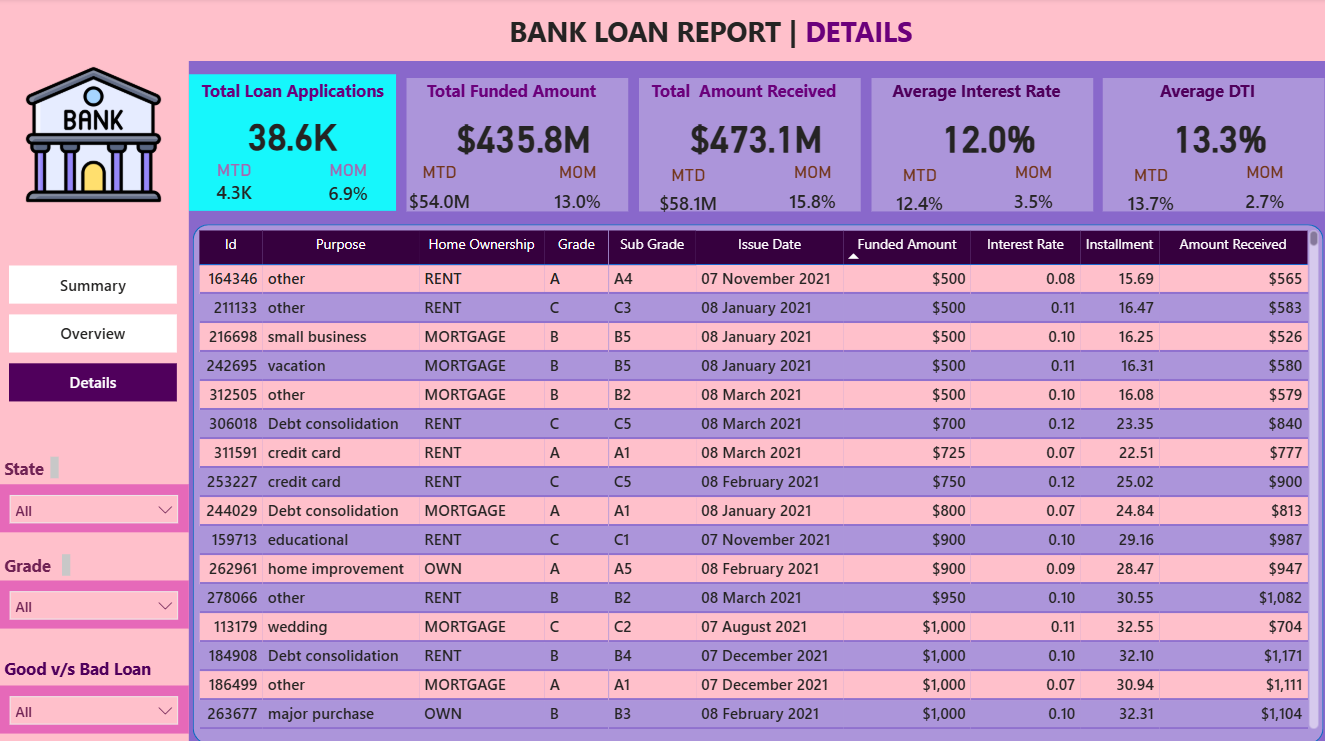

The dashboard page shown, as its layout file describes it:
{"tool":"powerbi","page":{"name":"Details","canvas":[1280,720],"ordinal":2},"visuals":[{"type":"shape","box":[0,0,1279.8,60.9],"z":0},{"type":"shape","box":[182.8,73.7,199.8,131.8],"z":0,"group":"g1"},{"type":"shape","box":[393.3,77.1,214,129],"z":0,"group":"g2"},{"type":"shape","box":[617.7,77.1,214,129],"z":0,"group":"g3"},{"type":"shape","box":[841.5,77.2,214,129],"z":0,"group":"g4"},{"type":"shape","box":[1065.8,77.2,214,129],"z":0,"group":"g5"},{"type":"card","fields":{"Values":["Loan_report.Total Loan Applications"]},"box":[182.8,109.1,199.8,46.8],"z":1000,"group":"g1"},{"type":"card","fields":{"Values":["Loan_report.Total Funded Amount"]},"box":[406.3,109.7,199.8,46.8],"z":1000,"group":"g2"},{"type":"card","fields":{"Values":["Loan_report.Total Amount Received"]},"box":[630.7,109.7,199.8,46.8],"z":1000,"group":"g3"},{"type":"card","fields":{"Values":["Loan_report.Avg Interest Rate"]},"box":[854.5,109.8,199.8,46.8],"z":1000,"group":"g4"},{"type":"card","fields":{"Values":["Loan_report.Avg DTI"]},"box":[1078.8,109.8,199.8,46.8],"z":1000,"group":"g5"},{"type":"shape","box":[187.1,218.3,1091.3,501.7],"z":1000},{"type":"shape","box":[0,54.3,183.4,666],"z":2000},{"type":"textbox","box":[393.9,73.6,199.8,35.4],"z":2000,"group":"g2"},{"type":"textbox","box":[618.3,73.6,199.8,35.4],"z":2000,"group":"g3"},{"type":"textbox","box":[182.8,73.7,199.8,35.4],"z":2000,"group":"g1"},{"type":"textbox","box":[842.1,73.7,199.8,35.4],"z":2000,"group":"g4"},{"type":"textbox","box":[1066.4,73.7,199.8,35.4],"z":2000,"group":"g5"},{"type":"textbox","box":[487.6,8.5,483.3,45.4],"z":3000},{"type":"card","title":"MTD","fields":{"Values":["Loan_report.MTD Loan Applications"]},"box":[201.2,155.9,51,48.2],"z":3000,"group":"g1"},{"type":"card","title":"MTD","fields":{"Values":["Loan_report.MTD Funded Amount"]},"box":[386.9,158.5,76,60.3],"z":3000,"group":"g2"},{"type":"card","title":"MTD","fields":{"Values":["Loan_report.MTD Avg Interest Rate"]},"box":[850,160.8,76.5,59.5],"z":3000,"group":"g4"},{"type":"card","title":"MTD","fields":{"Values":["Loan_report.MTD Avg DTI"]},"box":[1074.3,160.8,76.5,59.5],"z":3000,"group":"g5"},{"type":"card","title":"MTD","fields":{"Values":["Loan_report.MTD Amount Received"]},"box":[627.7,161,76,60.3],"z":3000,"group":"g3"},{"type":"group","id":"g1","title":"Group 1","box":[182.8,73.7,199.8,133.1],"z":4000},{"type":"card","title":"MOM","fields":{"Values":["Loan_report.MOM Loan Applications"]},"box":[306.1,156.1,61.5,50.7],"z":4000,"group":"g1"},{"type":"card","title":"MOM","fields":{"Values":["Loan_report.MOM Avg Interest Rate"]},"box":[963.4,158,69.4,60.9],"z":4000,"group":"g4"},{"type":"card","title":"MOM","fields":{"Values":["Loan_report.MOM Avg DTI"]},"box":[1187.7,158,69.4,60.9],"z":4000,"group":"g5"},{"type":"card","title":"MOM","fields":{"Values":["Loan_report.MOM Funded Amount"]},"box":[523.2,158.5,70,60.3],"z":4000,"group":"g2"},{"type":"card","title":"MOM","fields":{"Values":["Loan_report.MOM Amount Received"]},"box":[750.8,158.5,70,60.3],"z":4000,"group":"g3"},{"type":"group","id":"g2","title":"Group 1","box":[386.9,73.6,220.4,145.3],"z":5000},{"type":"group","id":"g3","title":"Group 1","box":[617.7,73.6,214,147.7],"z":6000},{"type":"group","id":"g4","title":"Group 1","box":[841.5,73.7,214,147.4],"z":7000},{"type":"group","id":"g5","title":"Group 1","box":[1065.8,73.7,214,147.4],"z":8000},{"type":"slicer","fields":{"Values":["Loan_report.address_state"]},"box":[0,469.1,182.8,46.8],"z":9000},{"type":"textbox","box":[0,438,62.4,31.2],"z":10000},{"type":"slicer","fields":{"Values":["Loan_report.Good v/s Bad loan"]},"box":[0,663.3,182.8,46.8],"z":11000},{"type":"textbox","box":[0,531.5,73.7,31.2],"z":12000},{"type":"slicer","fields":{"Values":["Loan_report.grade"]},"box":[0,562.7,182.8,46.8],"z":13000},{"type":"textbox","box":[0,630.7,182.8,32.6],"z":14000},{"type":"tableEx","fields":{"Values":["Loan_report.id","Loan_report.purpose","Loan_report.home_ownership","Loan_report.grade","Loan_report.sub_grade","Loan_report.issue_date","Loan_report.Total Funded Amount","Loan_report.int_rate","Loan_report.installment","Loan_report.Total Amount Received"]},"box":[187.1,219.7,1091.3,490.4],"z":15000},{"type":"pageNavigator","box":[9.9,258,163,133.2],"z":16000},{"type":"image","box":[4.8,61.5,172.5,141.2],"z":17000}]}

Visuals, with their boxes in screenshot pixels (x1, y1, x2, y2), scaled from the page's 1280x720 canvas onto the 1325x741 screenshot:
shape: x1=0, y1=0, x2=1324, y2=63
shape: x1=189, y1=76, x2=396, y2=211
shape: x1=407, y1=79, x2=629, y2=212
shape: x1=639, y1=79, x2=861, y2=212
shape: x1=871, y1=79, x2=1093, y2=212
shape: x1=1103, y1=79, x2=1324, y2=212
card - Loan_report.Total Loan Applications: x1=189, y1=112, x2=396, y2=160
card - Loan_report.Total Funded Amount: x1=421, y1=113, x2=627, y2=161
card - Loan_report.Total Amount Received: x1=653, y1=113, x2=860, y2=161
card - Loan_report.Avg Interest Rate: x1=885, y1=113, x2=1091, y2=161
card - Loan_report.Avg DTI: x1=1117, y1=113, x2=1324, y2=161
shape: x1=194, y1=225, x2=1323, y2=740
shape: x1=0, y1=56, x2=190, y2=740
textbox: x1=408, y1=76, x2=615, y2=112
textbox: x1=640, y1=76, x2=847, y2=112
textbox: x1=189, y1=76, x2=396, y2=112
textbox: x1=872, y1=76, x2=1079, y2=112
textbox: x1=1104, y1=76, x2=1311, y2=112
textbox: x1=505, y1=9, x2=1005, y2=55
"MTD" card: x1=208, y1=160, x2=261, y2=210
"MTD" card: x1=401, y1=163, x2=479, y2=225
"MTD" card: x1=880, y1=165, x2=959, y2=227
"MTD" card: x1=1112, y1=165, x2=1191, y2=227
"MTD" card: x1=650, y1=166, x2=728, y2=228
"Group 1" group: x1=189, y1=76, x2=396, y2=213
"MOM" card: x1=317, y1=161, x2=381, y2=213
"MOM" card: x1=997, y1=163, x2=1069, y2=225
"MOM" card: x1=1229, y1=163, x2=1301, y2=225
"MOM" card: x1=542, y1=163, x2=614, y2=225
"MOM" card: x1=777, y1=163, x2=850, y2=225
"Group 1" group: x1=401, y1=76, x2=629, y2=225
"Group 1" group: x1=639, y1=76, x2=861, y2=228
"Group 1" group: x1=871, y1=76, x2=1093, y2=228
"Group 1" group: x1=1103, y1=76, x2=1324, y2=228
slicer - Loan_report.address_state: x1=0, y1=483, x2=189, y2=531
textbox: x1=0, y1=451, x2=65, y2=483
slicer - Loan_report.Good v/s Bad loan: x1=0, y1=683, x2=189, y2=731
textbox: x1=0, y1=547, x2=76, y2=579
slicer - Loan_report.grade: x1=0, y1=579, x2=189, y2=627
textbox: x1=0, y1=649, x2=189, y2=683
tableEx - Loan_report.id x Loan_report.purpose: x1=194, y1=226, x2=1323, y2=731
pageNavigator: x1=10, y1=266, x2=179, y2=403
image: x1=5, y1=63, x2=184, y2=209
